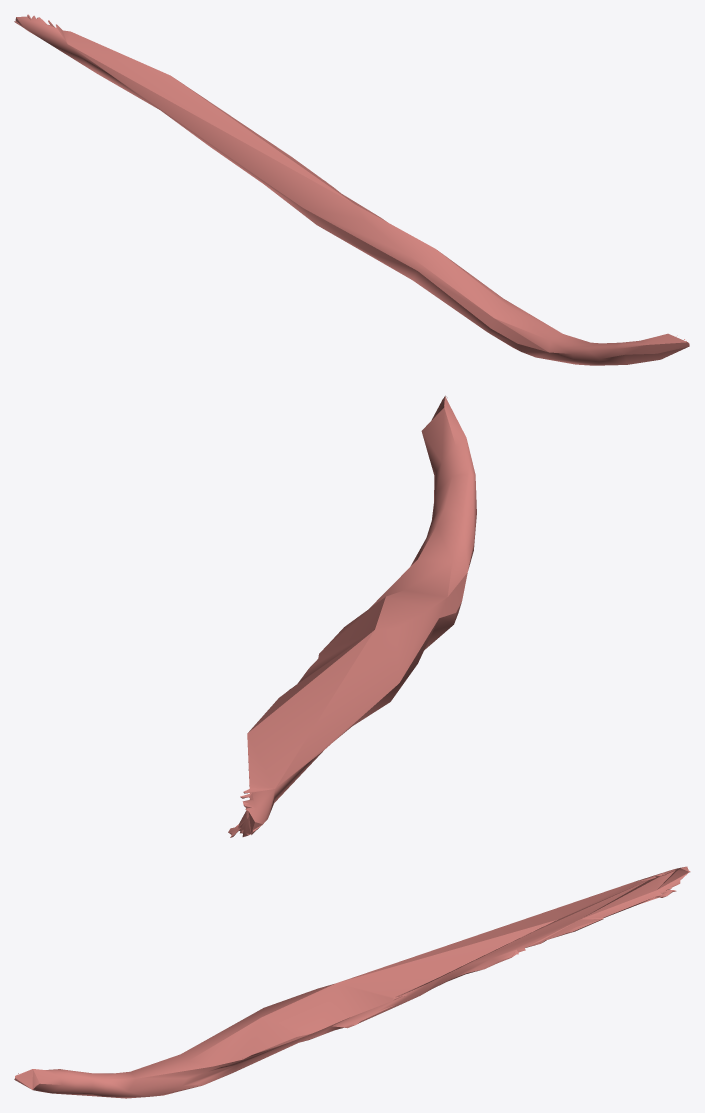
The model's file is fma37718_fj1383m.glb.
3 views of the same model, one above another, from view 1: azimuth 30°, elevation 25°; view 2: azimuth 150°, elevation 25°; view 3: azimuth 270°, elevation 25° (orthographic). The views are drawn at different scales.
Parts seen in each view (by area): view 1: FMA37718_FJ1383M; view 2: FMA37718_FJ1383M; view 3: FMA37718_FJ1383M.
Part boxes in pixels (bbox=[...]): FMA37718_FJ1383M: bbox=[14, 14, 689, 365]; FMA37718_FJ1383M: bbox=[228, 395, 476, 837]; FMA37718_FJ1383M: bbox=[14, 866, 690, 1098].
Bounding box in the file's own units: 0.0354 × 0.0196 × 0.0854.
